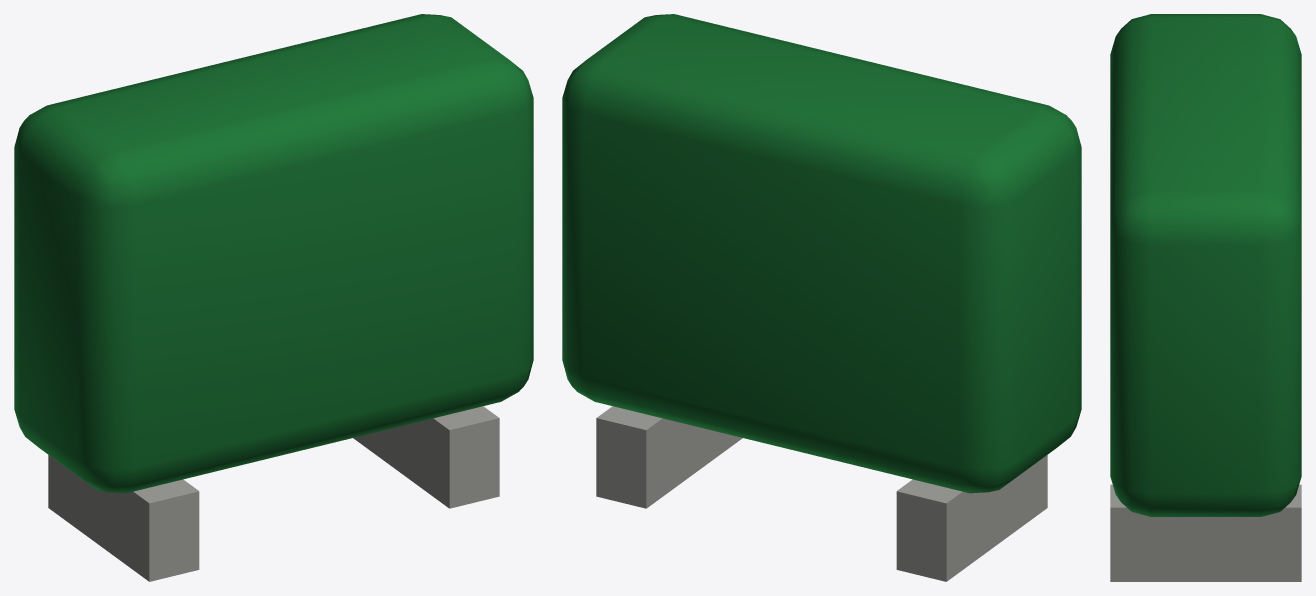
Rendered from street.garden.oil_tank.glb.
3 renders of one model, left to right at view 1: azimuth 30°, elevation 25°; view 2: azimuth 150°, elevation 25°; view 3: azimuth 270°, elevation 25°, orthographic. The views are drawn at different scales.
Visible parts, largest first — view 1: main__plastic_green, main__blockwork; view 2: main__plastic_green, main__blockwork; view 3: main__plastic_green, main__blockwork.
Part boxes in pixels (x1=…): main__plastic_green: x1=14, y1=14, x2=533, y2=493; main__blockwork: x1=48, y1=406, x2=499, y2=581; main__plastic_green: x1=562, y1=14, x2=1081, y2=493; main__blockwork: x1=596, y1=406, x2=1047, y2=581; main__plastic_green: x1=1110, y1=14, x2=1301, y2=516; main__blockwork: x1=1110, y1=484, x2=1301, y2=581.
Size of the model in its own units: 1.8 by 1.6 by 0.7.
